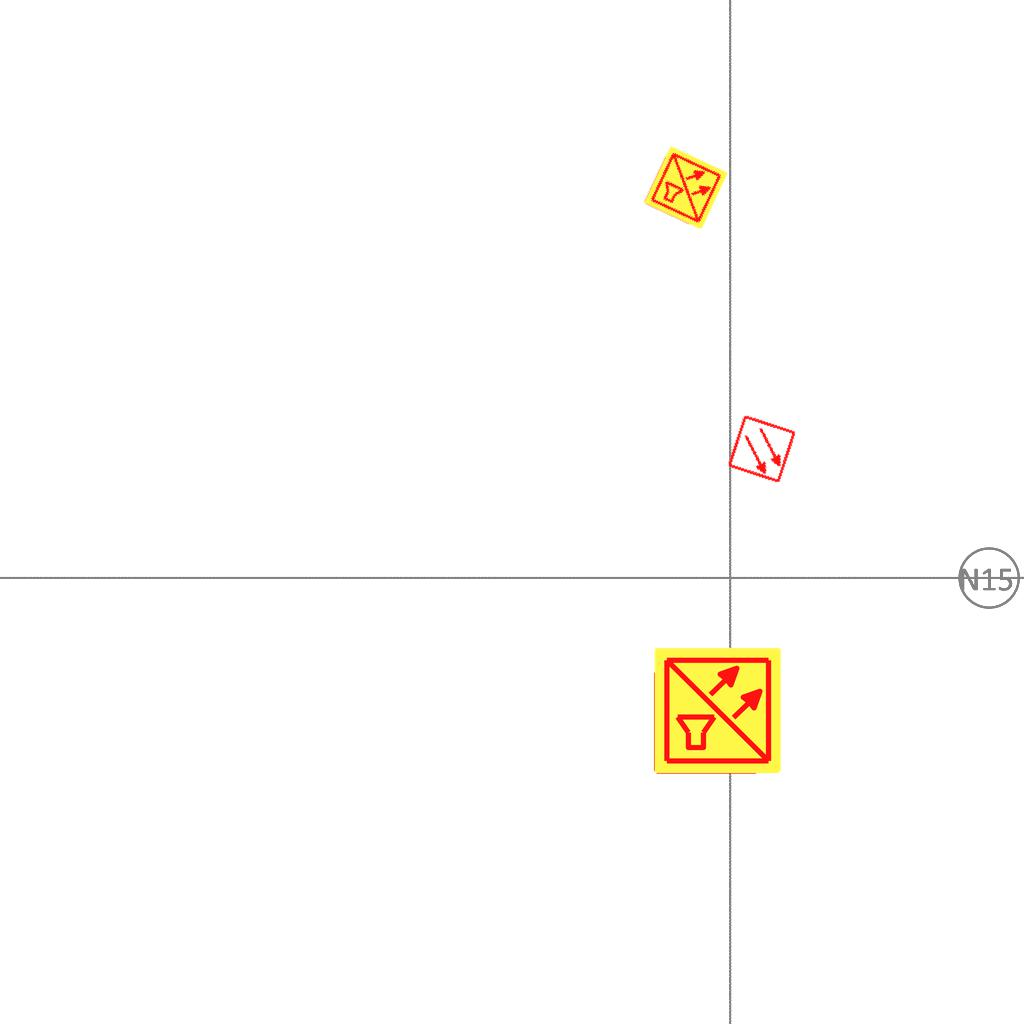OKW_Multisensormelder_(Kombination_optischer_Rauch-Kahlenmonoxid_Waerme-Melder): (652, 645, 784, 777), (642, 144, 730, 232)
RMO_Rauchmelder_optischer: (726, 413, 798, 485)
